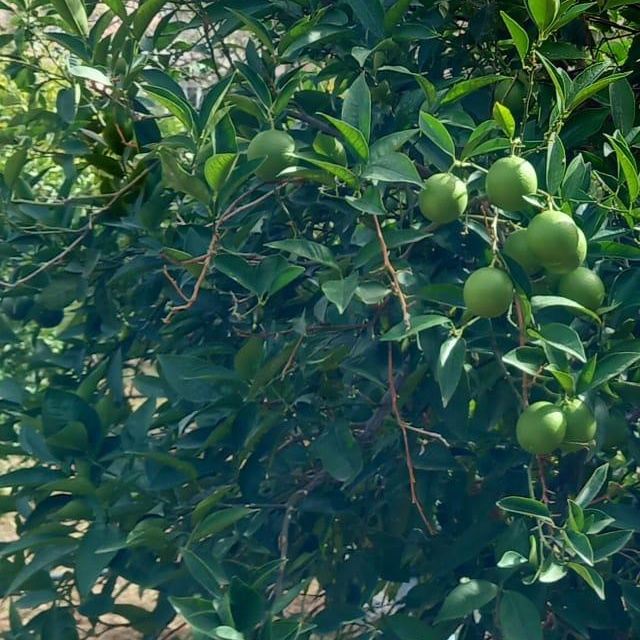orange: (513, 203, 587, 279), (402, 162, 474, 234), (448, 262, 520, 334), (505, 400, 569, 468), (241, 126, 311, 188), (479, 148, 543, 208)
